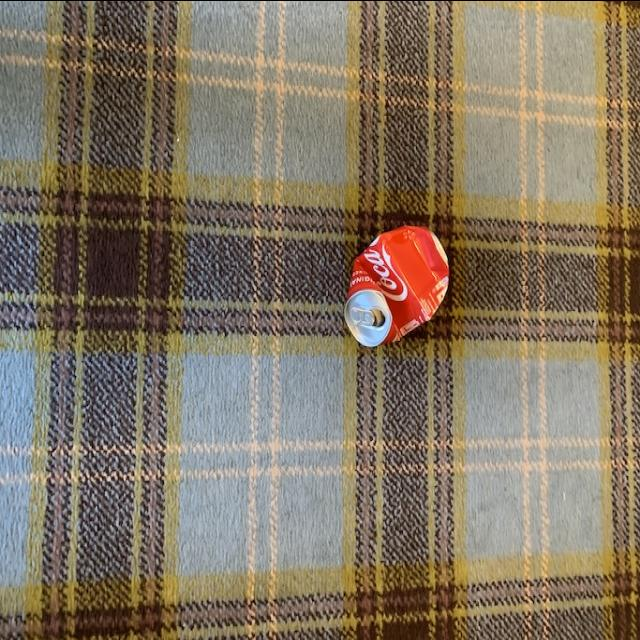litter: (340, 220, 450, 352)
